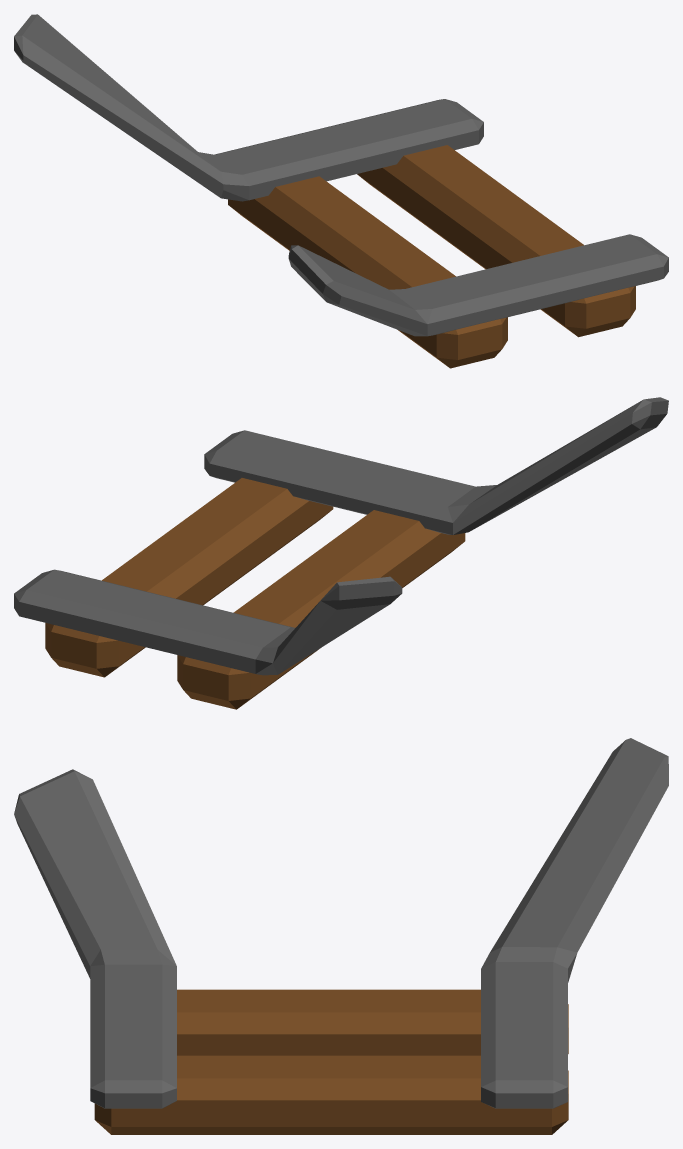
The model's file is rail3.fbx.
The picture shows the model from 3 angles, top to bottom: view 1: azimuth 30°, elevation 25°; view 2: azimuth 150°, elevation 25°; view 3: azimuth 270°, elevation 25°; orthographic projection. The views are drawn at different scales.
Parts seen in each view (by area): view 1: Cube.006; view 2: Cube.006; view 3: Cube.006.
Boxes of the visible parts, bbox=[...] form: Cube.006: bbox=[14, 14, 668, 368]; Cube.006: bbox=[14, 397, 668, 709]; Cube.006: bbox=[14, 738, 668, 1134].
Bounding box in the file's own units: 159 × 74.77 × 210.
